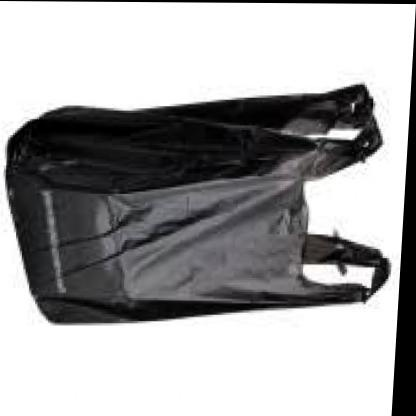trash: (6, 84, 388, 322)
